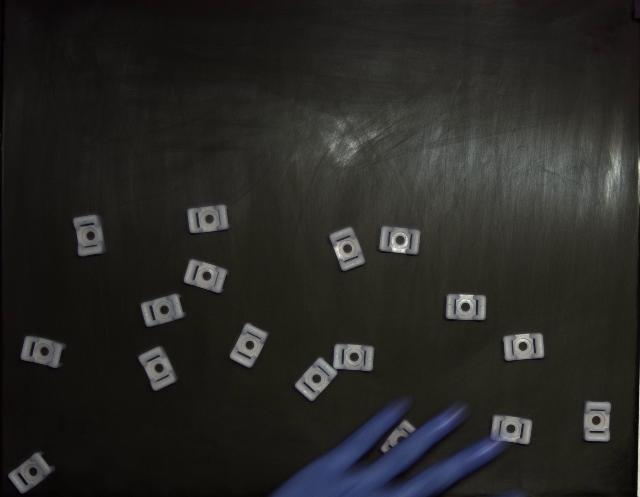first_side: (9, 452, 55, 494), (295, 358, 338, 401), (139, 346, 178, 391), (230, 324, 269, 368), (20, 336, 66, 369), (330, 228, 365, 271), (141, 294, 185, 328), (184, 260, 228, 294), (74, 215, 105, 256), (490, 415, 532, 445), (379, 226, 421, 255), (188, 205, 229, 234), (502, 334, 545, 361), (445, 294, 486, 321), (584, 401, 611, 442), (334, 344, 374, 371)
